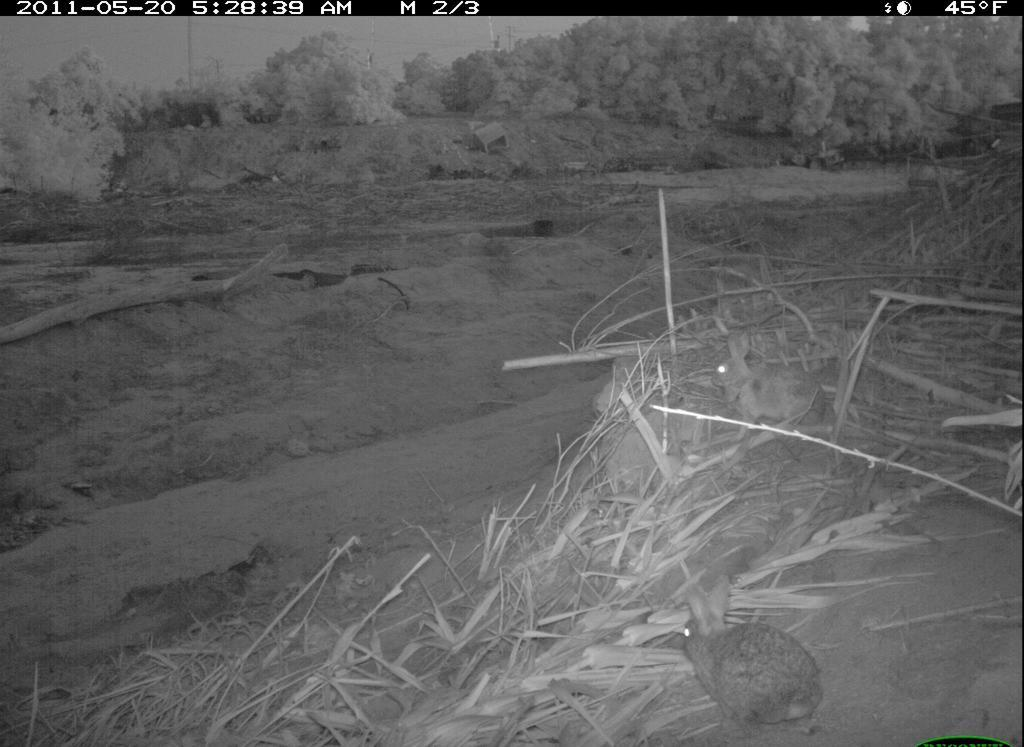rabbit: (667, 587, 849, 740), (707, 326, 846, 445)
